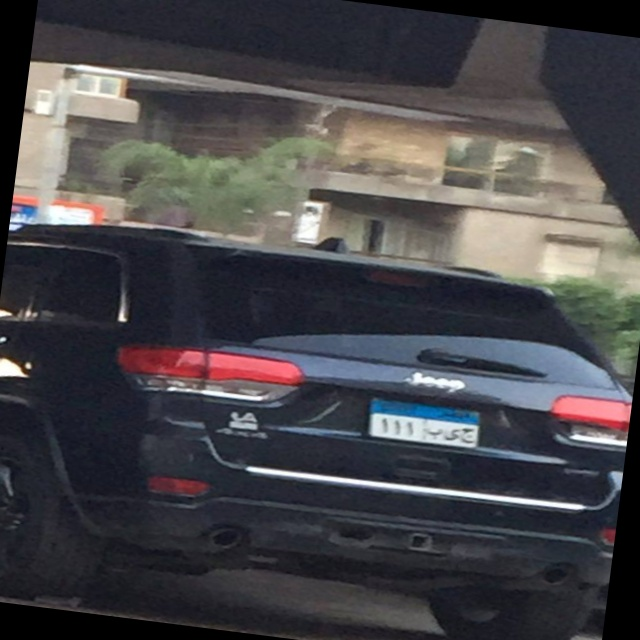License Plate: (363, 395, 486, 452)
